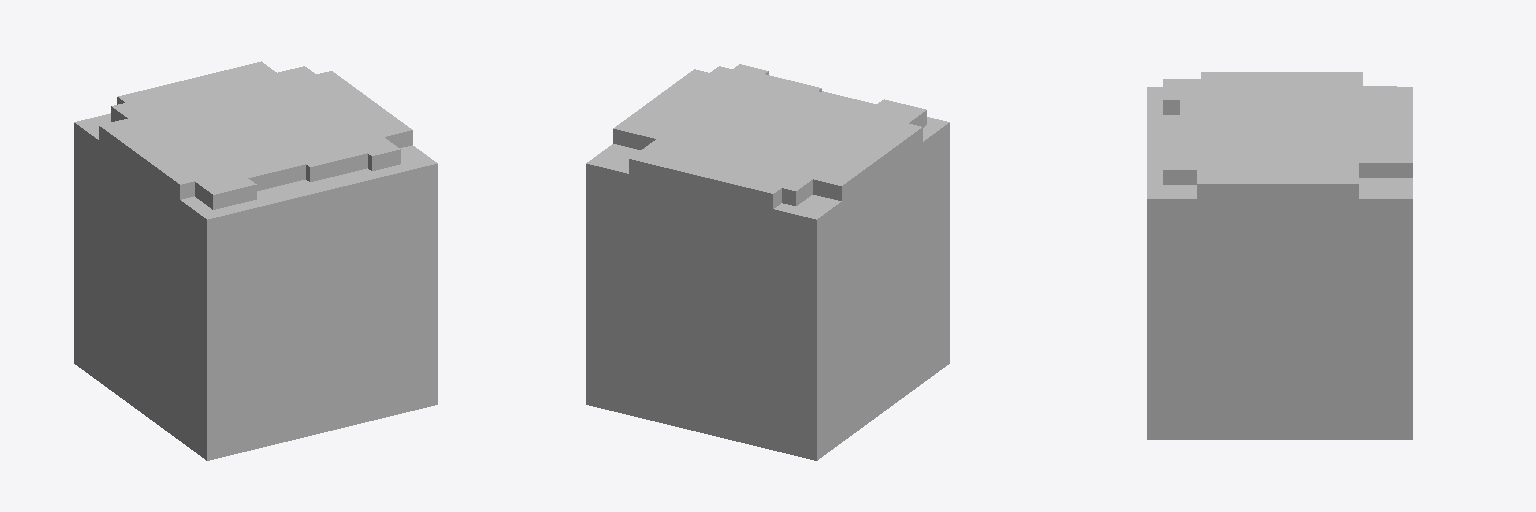
Rendered from GrassPath3End.obj.
3 views of the same model, side by side, from view 1: azimuth 30°, elevation 25°; view 2: azimuth 150°, elevation 25°; view 3: azimuth 270°, elevation 25° (orthographic).
Parts seen in each view (by area): view 1: cube; view 2: cube; view 3: cube.
Part boxes in pixels (left/top/right/bottom): cube: left=74, top=61, right=437, bottom=460; cube: left=586, top=64, right=949, bottom=460; cube: left=1147, top=72, right=1412, bottom=439.
Size of the model in its own units: 1 by 1.06 by 1.